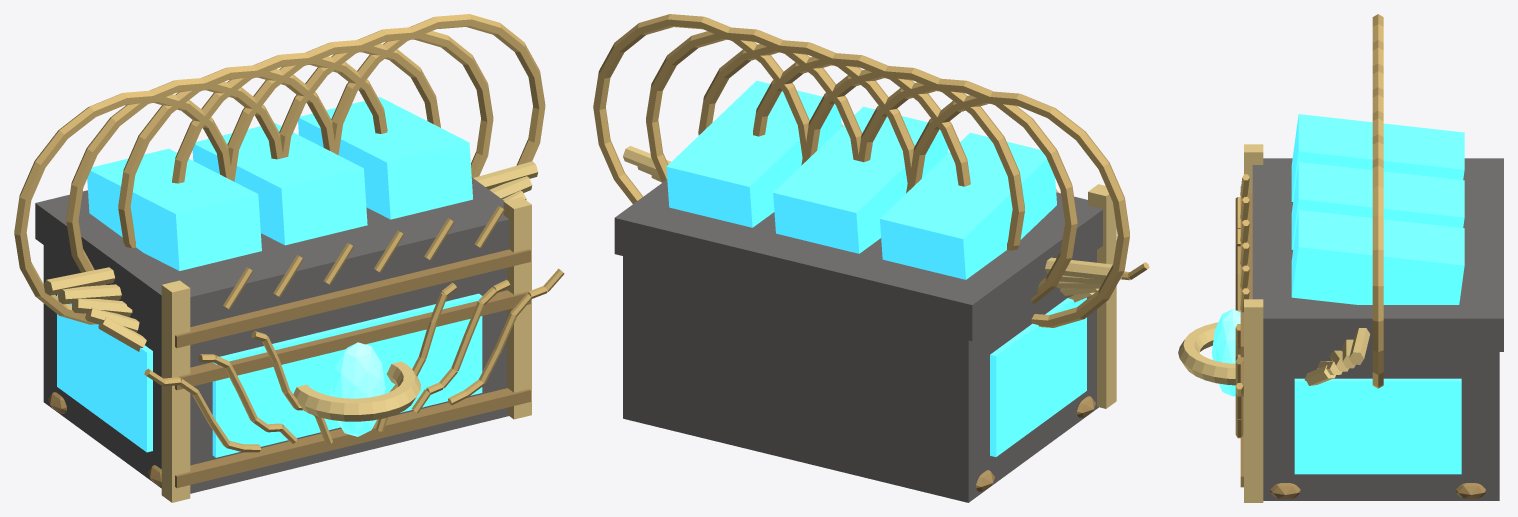
File: Midgard_Forgotten_Cache_Chest_V1_YUP.glb
The picture shows the model from 3 angles, left to right: view 1: azimuth 30°, elevation 25°; view 2: azimuth 150°, elevation 25°; view 3: azimuth 270°, elevation 25°; orthographic projection. The views are drawn at different scales.
Visible parts, largest first — view 1: Lid_Base, Chest_Core, Front_Cyan_Panel, LidCyan_-1.05, LidCyan_1.05, LidCyan_0, Golden_Filigree, Left_Cyan_Panel, FrontBand_1.55, FrontBand_0.22, CornerPost_-1.7, LidBand_0 (+12 smaller); view 2: Chest_Core, Lid_Base, LidCyan_-1.05, LidCyan_1.05, LidCyan_0, Left_Cyan_Panel, LidBand_0, LidBand_6, LidBand_1, LidBand_2, LidBand_5, LidBand_4 (+4 smaller); view 3: Lid_Base, Chest_Core, Right_Cyan_Panel, LidCyan_1.05, LidCyan_0, LidCyan_-1.05, CornerPost_1.7, LidBand_6, Golden_Filigree, LockRing, SideOrnament_1, CenterCrystal (+4 smaller).
Boxes of the visible parts, x1,y1,x2,y2 form: Lid_Base: [35, 177, 509, 330]; Chest_Core: [43, 245, 508, 493]; Front_Cyan_Panel: [212, 293, 482, 457]; LidCyan_-1.05: [87, 148, 261, 270]; LidCyan_1.05: [298, 97, 472, 219]; LidCyan_0: [192, 123, 367, 245]; Golden_Filigree: [144, 206, 564, 452]; Left_Cyan_Panel: [57, 294, 152, 452]; FrontBand_1.55: [175, 249, 530, 348]; FrontBand_0.22: [175, 388, 530, 487]; CornerPost_-1.7: [161, 280, 190, 502]; LidBand_0: [14, 90, 232, 324]; Chest_Core: [623, 250, 1098, 502]; Lid_Base: [614, 179, 1102, 341]; LidCyan_-1.05: [880, 132, 1056, 279]; LidCyan_1.05: [666, 80, 841, 227]; LidCyan_0: [773, 106, 948, 253]; Left_Cyan_Panel: [990, 297, 1086, 456]; LidBand_0: [909, 91, 1129, 327]; LidBand_6: [593, 14, 809, 203]; LidBand_1: [858, 78, 1077, 303]; LidBand_2: [803, 66, 1024, 250]; LidBand_5: [646, 27, 861, 182]; LidBand_4: [698, 40, 914, 193]; Lid_Base: [1252, 158, 1503, 351]; Chest_Core: [1263, 352, 1499, 500]; Right_Cyan_Panel: [1294, 378, 1461, 474]; LidCyan_1.05: [1291, 210, 1464, 304]; LidCyan_0: [1291, 162, 1464, 249]; LidCyan_-1.05: [1291, 114, 1464, 201]; CornerPost_1.7: [1244, 299, 1263, 502]; LidBand_6: [1372, 158, 1383, 388]; Golden_Filigree: [1235, 174, 1249, 438]; LockRing: [1178, 322, 1235, 385]; SideOrnament_1: [1304, 328, 1370, 385]; CenterCrystal: [1211, 309, 1240, 396].
Size of the model in its own units: 5.28 by 3.39 by 3.02.
